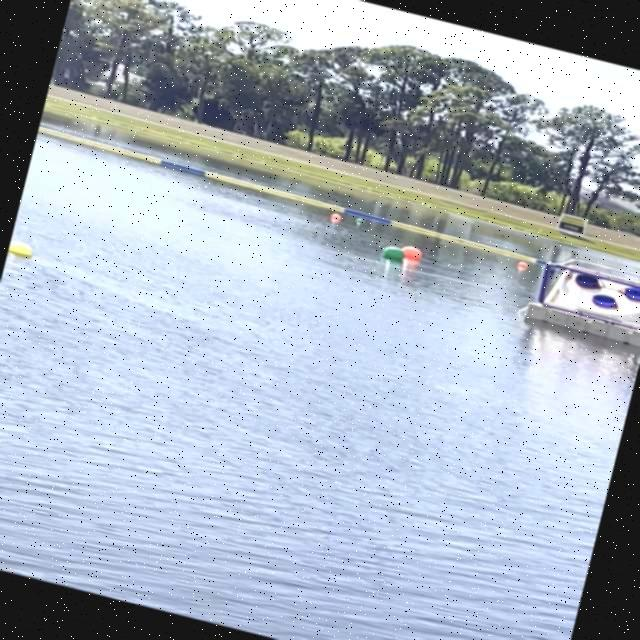buoy: (8, 238, 36, 261), (379, 242, 407, 262), (402, 244, 424, 264), (353, 216, 368, 227), (328, 212, 342, 222), (516, 260, 527, 268)
